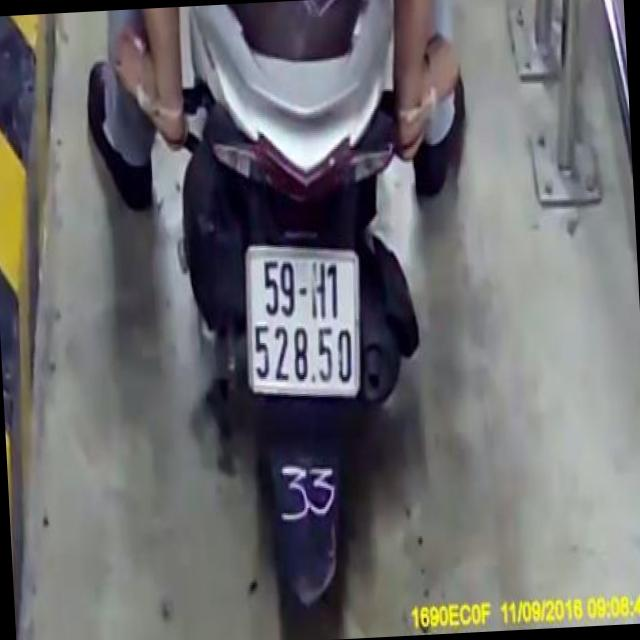LP: (240, 237, 368, 408)
